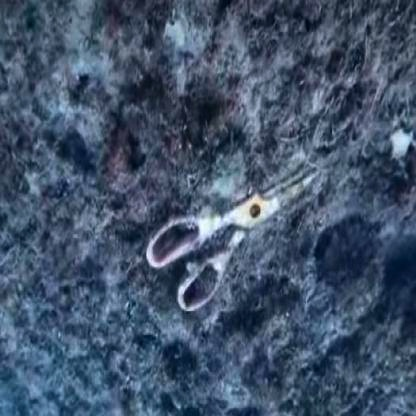misc: (124, 133, 317, 318)
